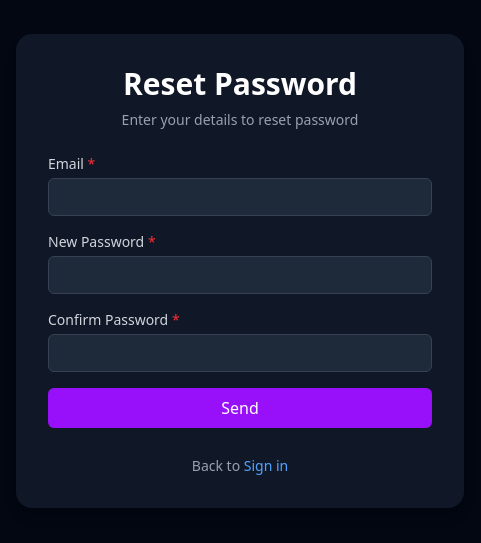
Test: ForgotPassword Component Tests › displays success message after successful password reset
Type "test@example.com" into the field labelled "Email *" at (240, 197), box [48,178,432,216]
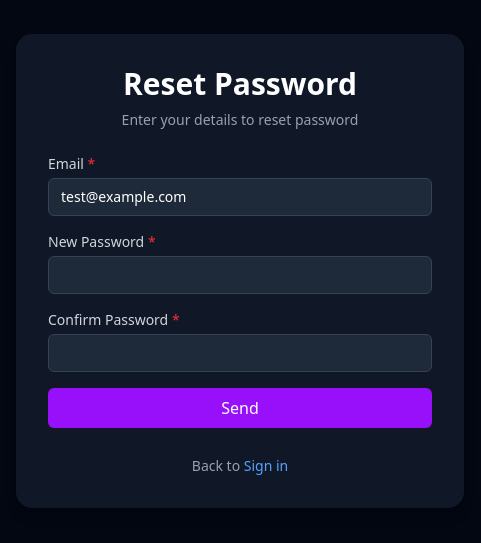
Type "newSecurePass" into the password field labelled "New Password *" at (240, 275), box [48,256,432,294]
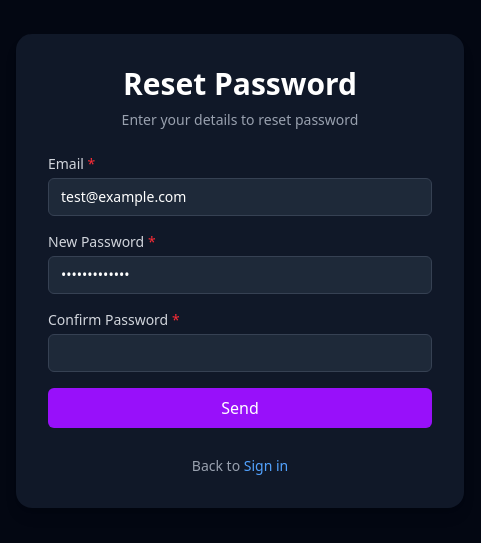
Type "newSecurePass" into the password field labelled "Confirm Password *" at (240, 353), box [48,334,432,372]
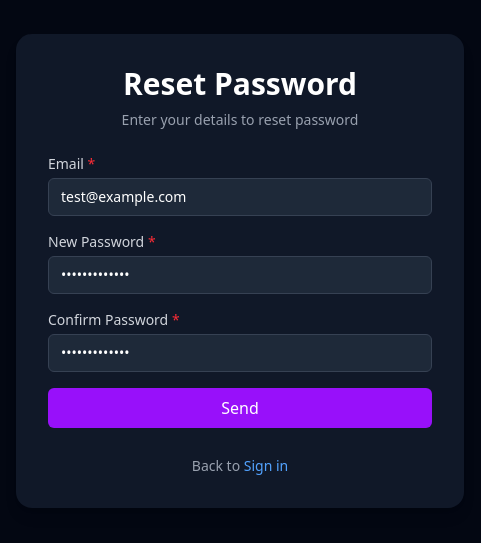
Click the button "Send" at (240, 408), box [48,388,432,428]
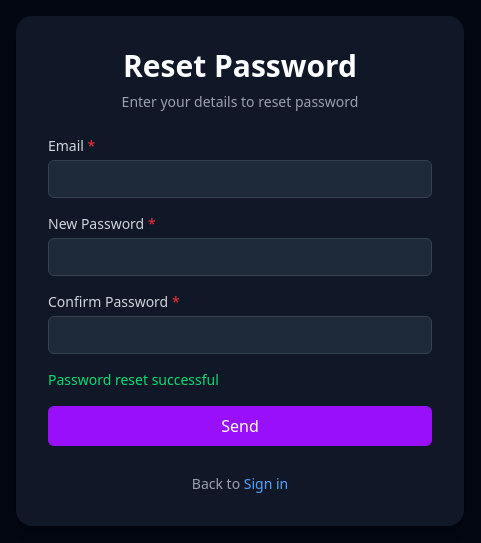
Check: the text "Password reset successful" is shown, box [48,370,219,389]
